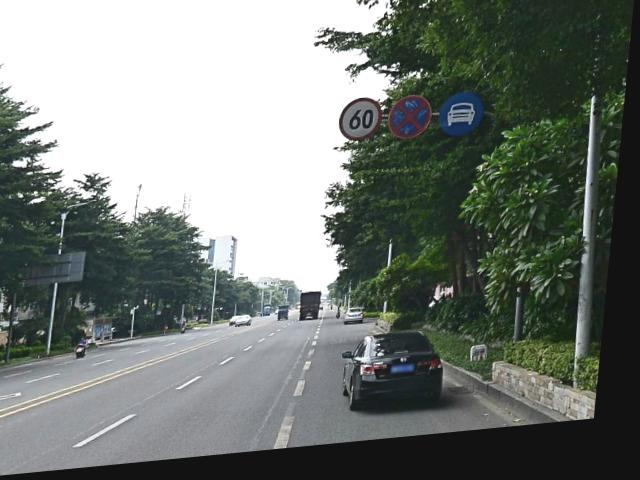limit60: (337, 100, 388, 151)
